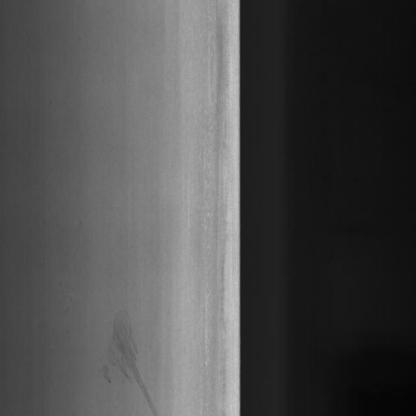water_spot: (85, 303, 165, 416)
